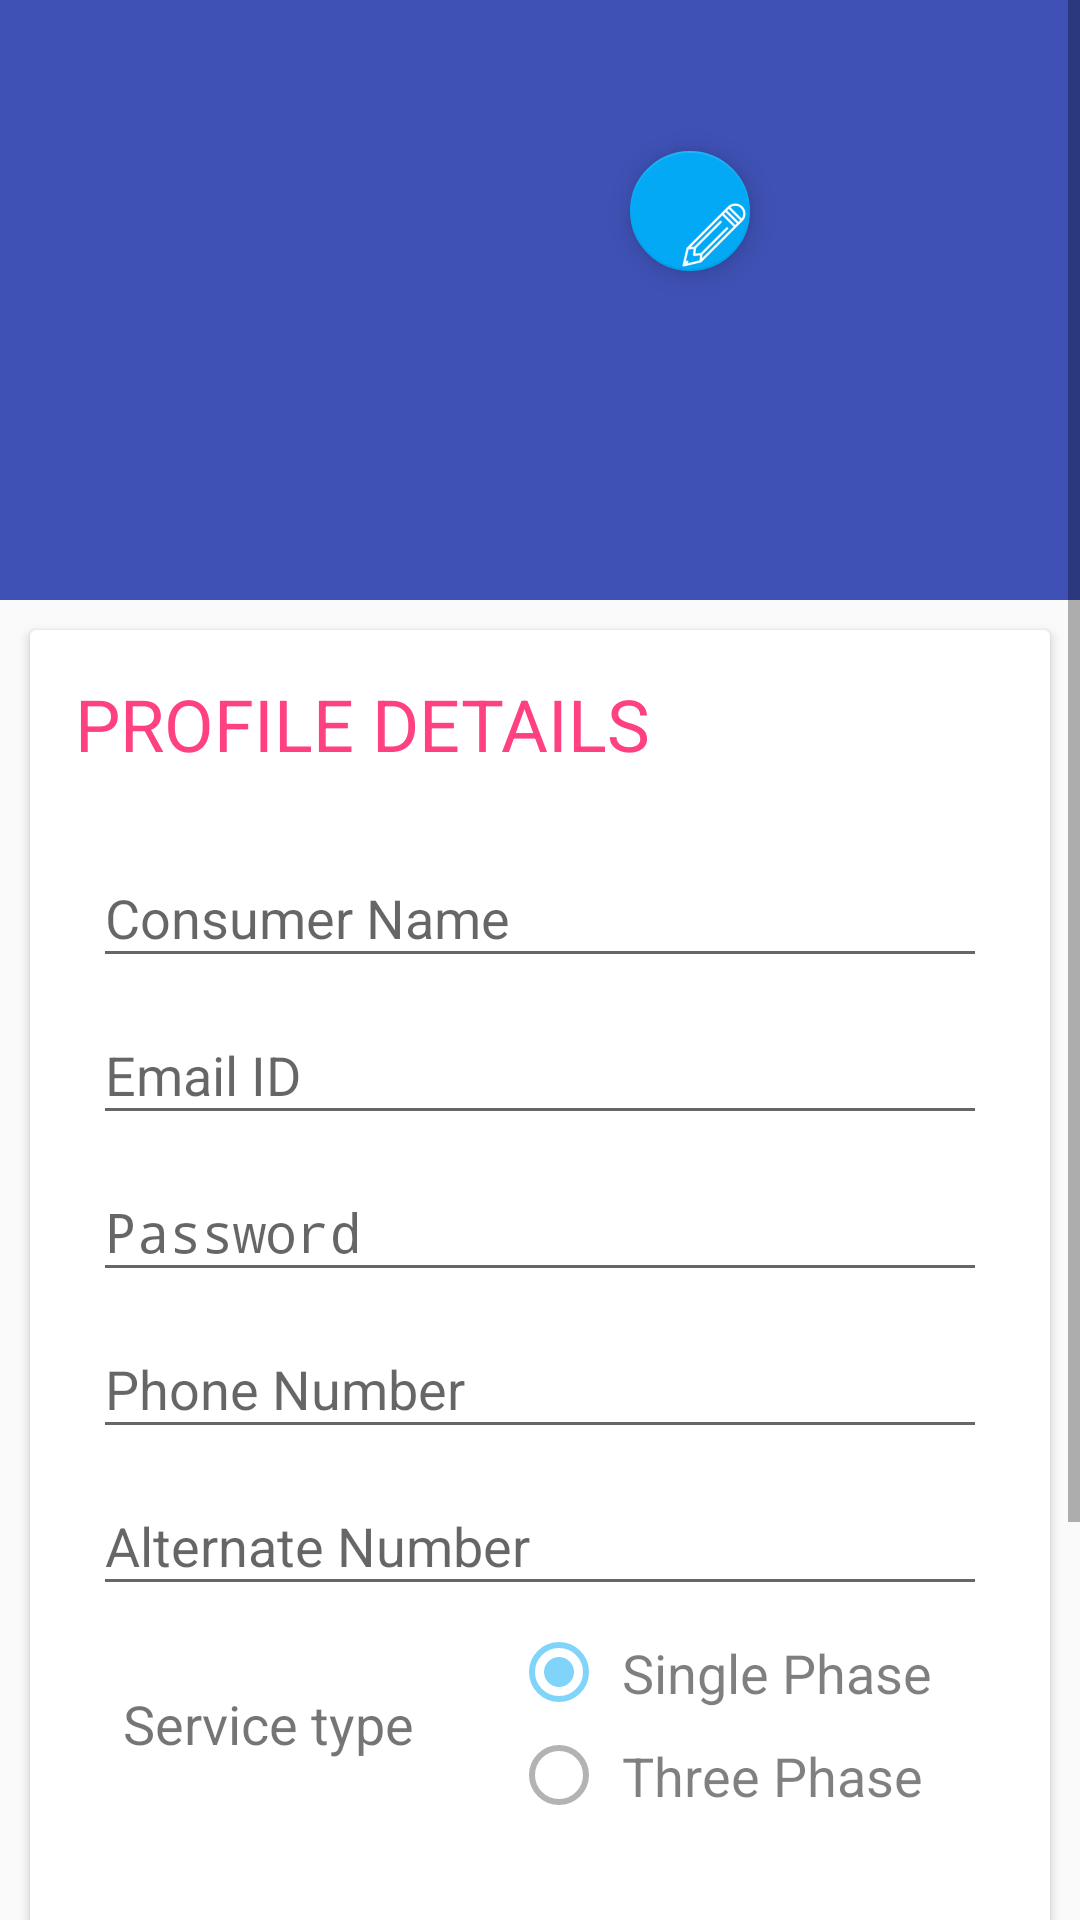

Where to tap for icons on this 1080px×1920px app screen, as point (x, y):
edit: point (690, 211)
